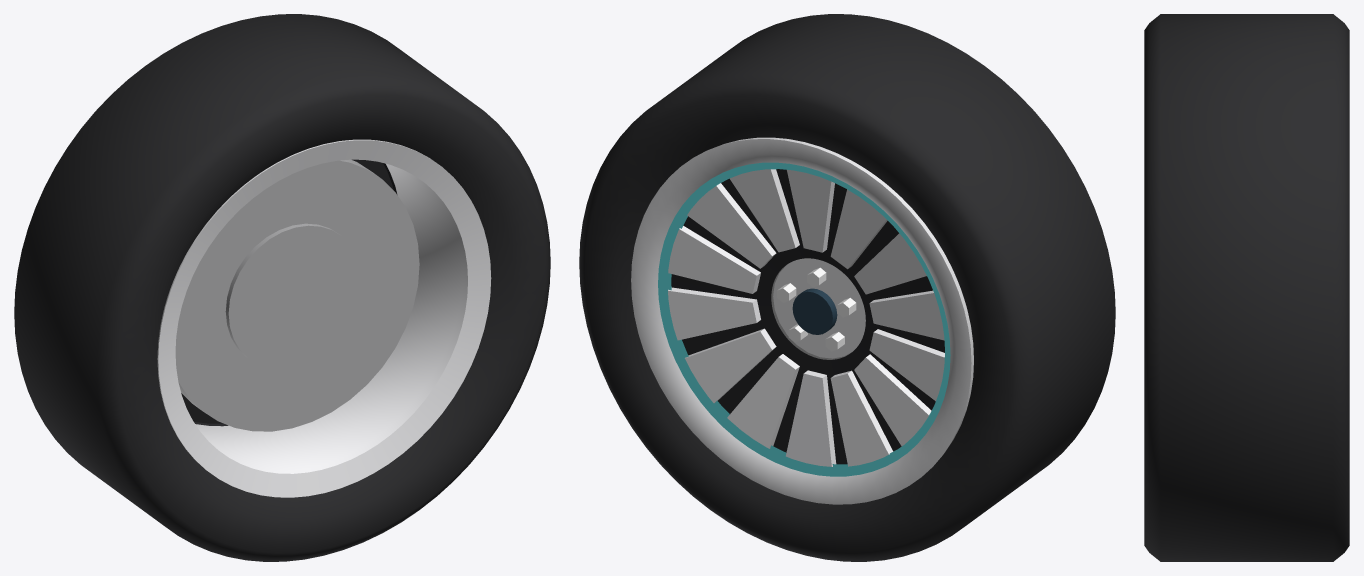
The model's file is SM_NeomGlide_Wheel_F.fbx.
3 renders of one model, left to right at view 1: azimuth 30°, elevation 25°; view 2: azimuth 150°, elevation 25°; view 3: azimuth 270°, elevation 25°, orthographic. The views are drawn at different scales.
Visible parts, largest first — view 1: Wheel_FL; view 2: Wheel_FL; view 3: Wheel_FL.
Part boxes in pixels (x1,y1,x2,y2): Wheel_FL: [14, 14, 550, 561]; Wheel_FL: [579, 14, 1115, 561]; Wheel_FL: [1144, 14, 1349, 561].
Bounding box in the file's own units: 72 × 72 × 27.
